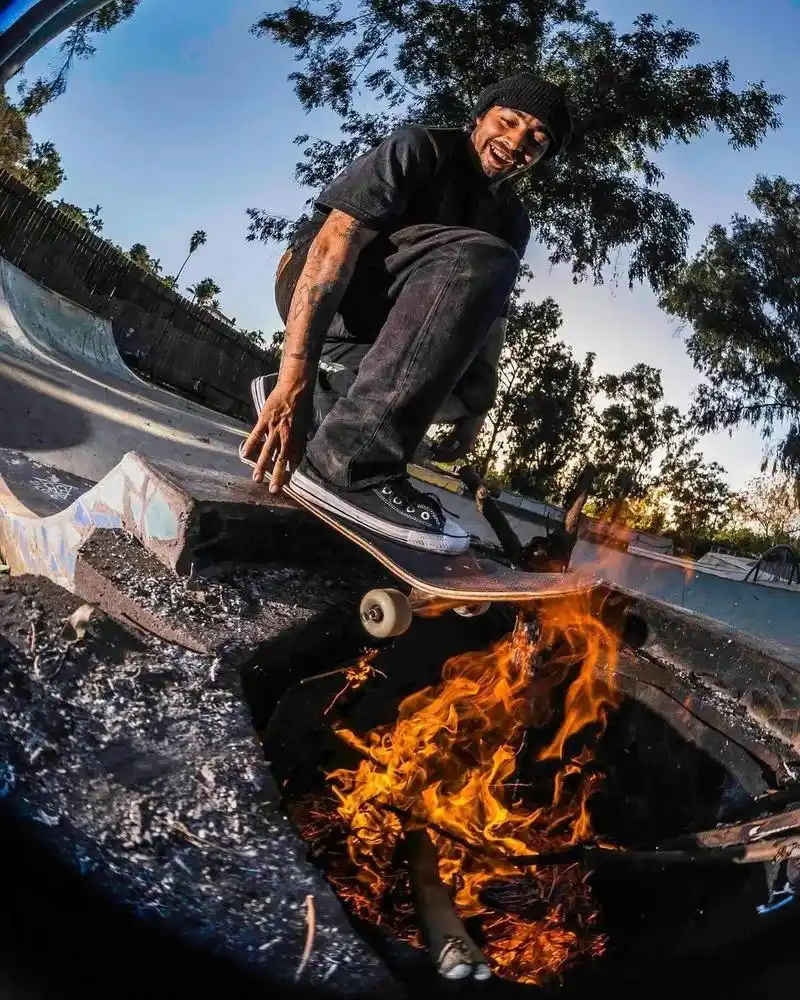fire: (324, 457, 673, 976)
